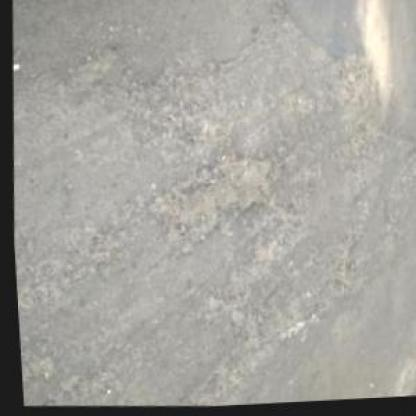pothole: (146, 146, 278, 266)
